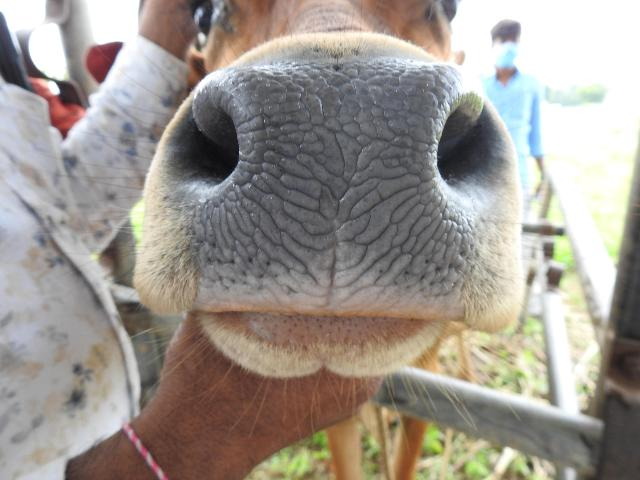Muzzle: (197, 68, 468, 326)
